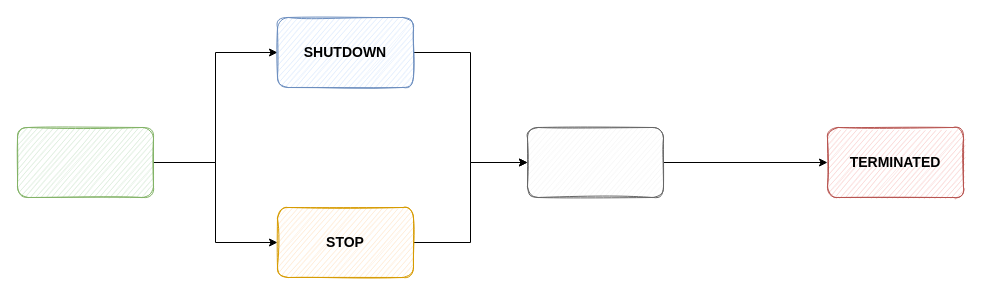
Some shapes in this 981 by 295 pixel diagram are drawn without their labels. The shapes that lost their labels are listed below. From the top down, each one's centre as x and y in pixels, then its label:
At pixel 85 162: "RUNNING".
At pixel 595 162: "TIDYING".
